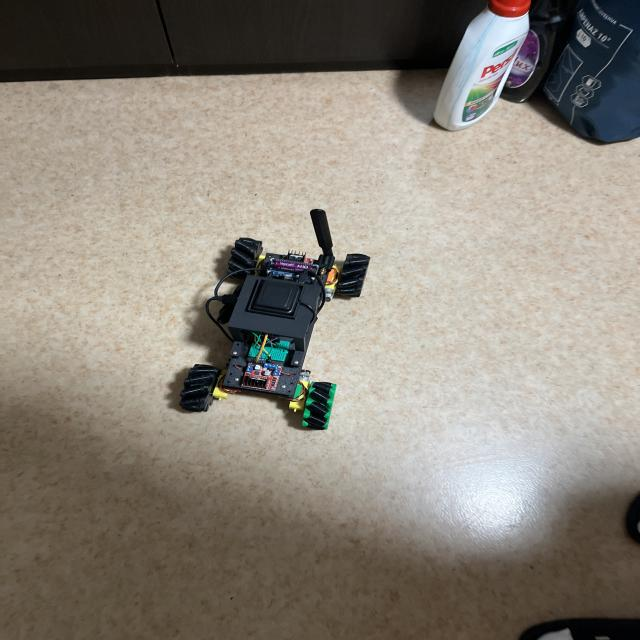robot: (180, 209, 370, 429)
